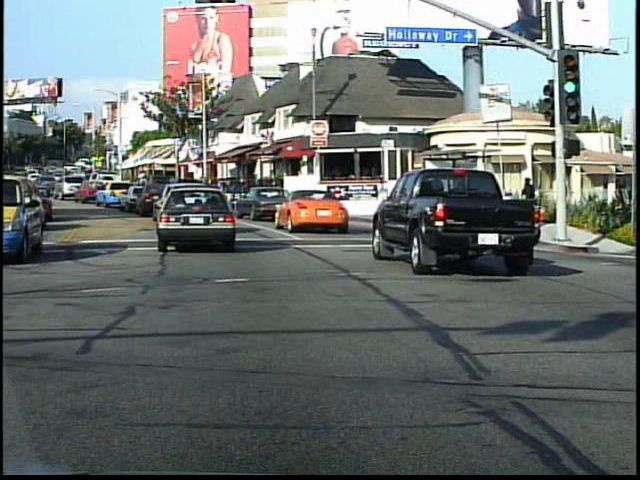person: (606, 191, 628, 261)
